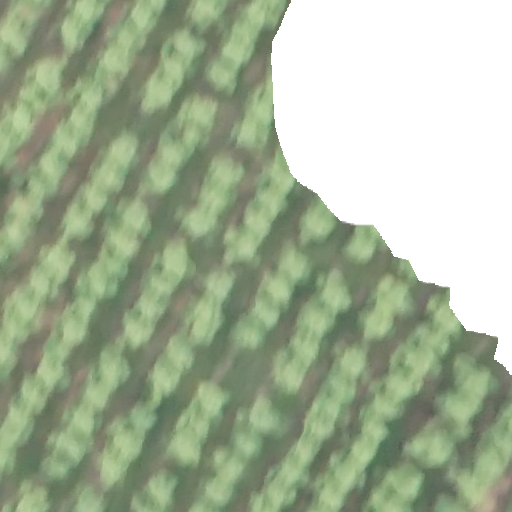eucalipto: (403, 421, 458, 469), (245, 388, 287, 437), (104, 416, 147, 463), (397, 340, 438, 387), (374, 272, 415, 318), (270, 349, 311, 394), (161, 26, 204, 68), (297, 201, 339, 244), (295, 301, 340, 339), (315, 271, 354, 314), (88, 153, 128, 194), (455, 359, 495, 399), (156, 128, 197, 167), (101, 221, 142, 260), (164, 428, 203, 469), (344, 222, 380, 266), (230, 116, 271, 154), (46, 432, 87, 470), (221, 228, 262, 266), (180, 206, 222, 243), (183, 93, 219, 136), (159, 239, 193, 284), (1, 406, 37, 448), (61, 203, 100, 241), (382, 365, 420, 404), (56, 14, 96, 51), (322, 367, 357, 409), (119, 309, 157, 347), (232, 313, 270, 351), (147, 355, 183, 395), (192, 381, 233, 416), (10, 287, 48, 324), (284, 330, 323, 366), (431, 300, 467, 339), (440, 387, 481, 421), (212, 446, 248, 484), (42, 238, 76, 278), (58, 304, 91, 345), (34, 150, 70, 186), (38, 355, 74, 391), (98, 45, 135, 80), (386, 466, 423, 501), (359, 309, 397, 343), (96, 350, 130, 387), (164, 334, 198, 371), (248, 85, 280, 124), (300, 411, 339, 443), (197, 181, 240, 210), (186, 1, 227, 31), (119, 201, 153, 237), (28, 265, 62, 301), (251, 185, 287, 219), (84, 267, 121, 300), (265, 158, 297, 196), (248, 289, 280, 327), (205, 155, 244, 186), (143, 266, 177, 301), (201, 266, 236, 300), (146, 471, 180, 506), (145, 159, 178, 195), (232, 426, 265, 462), (206, 64, 243, 96), (144, 75, 176, 112), (367, 392, 405, 423), (19, 375, 49, 414), (76, 180, 110, 214), (132, 290, 169, 321), (108, 130, 138, 168), (30, 60, 63, 94), (240, 206, 274, 239), (47, 122, 77, 159), (222, 32, 254, 66), (125, 400, 159, 432), (333, 453, 365, 487), (412, 323, 447, 354), (277, 249, 309, 282), (264, 274, 297, 306), (96, 459, 131, 489), (82, 381, 113, 414), (340, 347, 371, 379), (204, 476, 237, 505), (97, 249, 128, 279), (114, 22, 146, 51), (127, 3, 162, 29), (276, 459, 308, 487), (70, 292, 101, 320), (288, 433, 321, 459), (361, 415, 388, 446), (70, 110, 95, 143), (351, 438, 378, 462)
